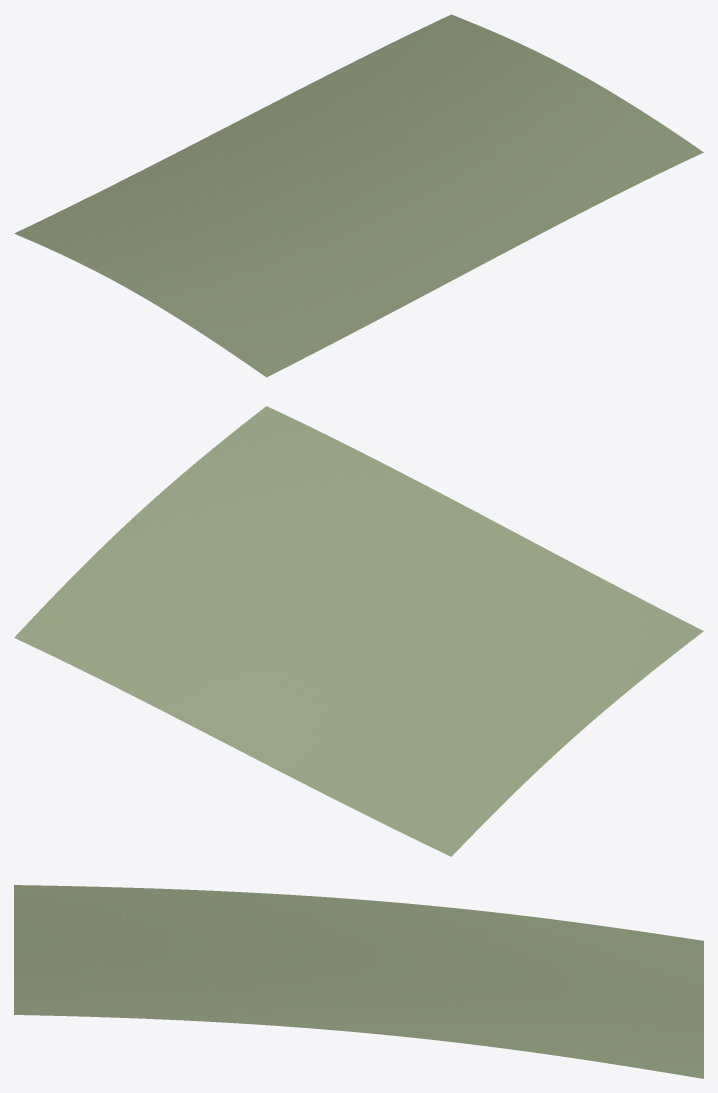
File: desert-23-6.glb
3 renders of one model, top to bottom at view 1: azimuth 30°, elevation 25°; view 2: azimuth 150°, elevation 25°; view 3: azimuth 270°, elevation 25°, orthographic. The views are drawn at different scales.
Parts seen in each view (by area): view 1: desert-23-6; view 2: desert-23-6; view 3: desert-23-6.
Part boxes in pixels (x1,y1,x2,y2): desert-23-6: (14,14,703,377); desert-23-6: (14,406,703,856); desert-23-6: (14,885,703,1078).
Size of the model in its own units: 512 by 178 by 512.
